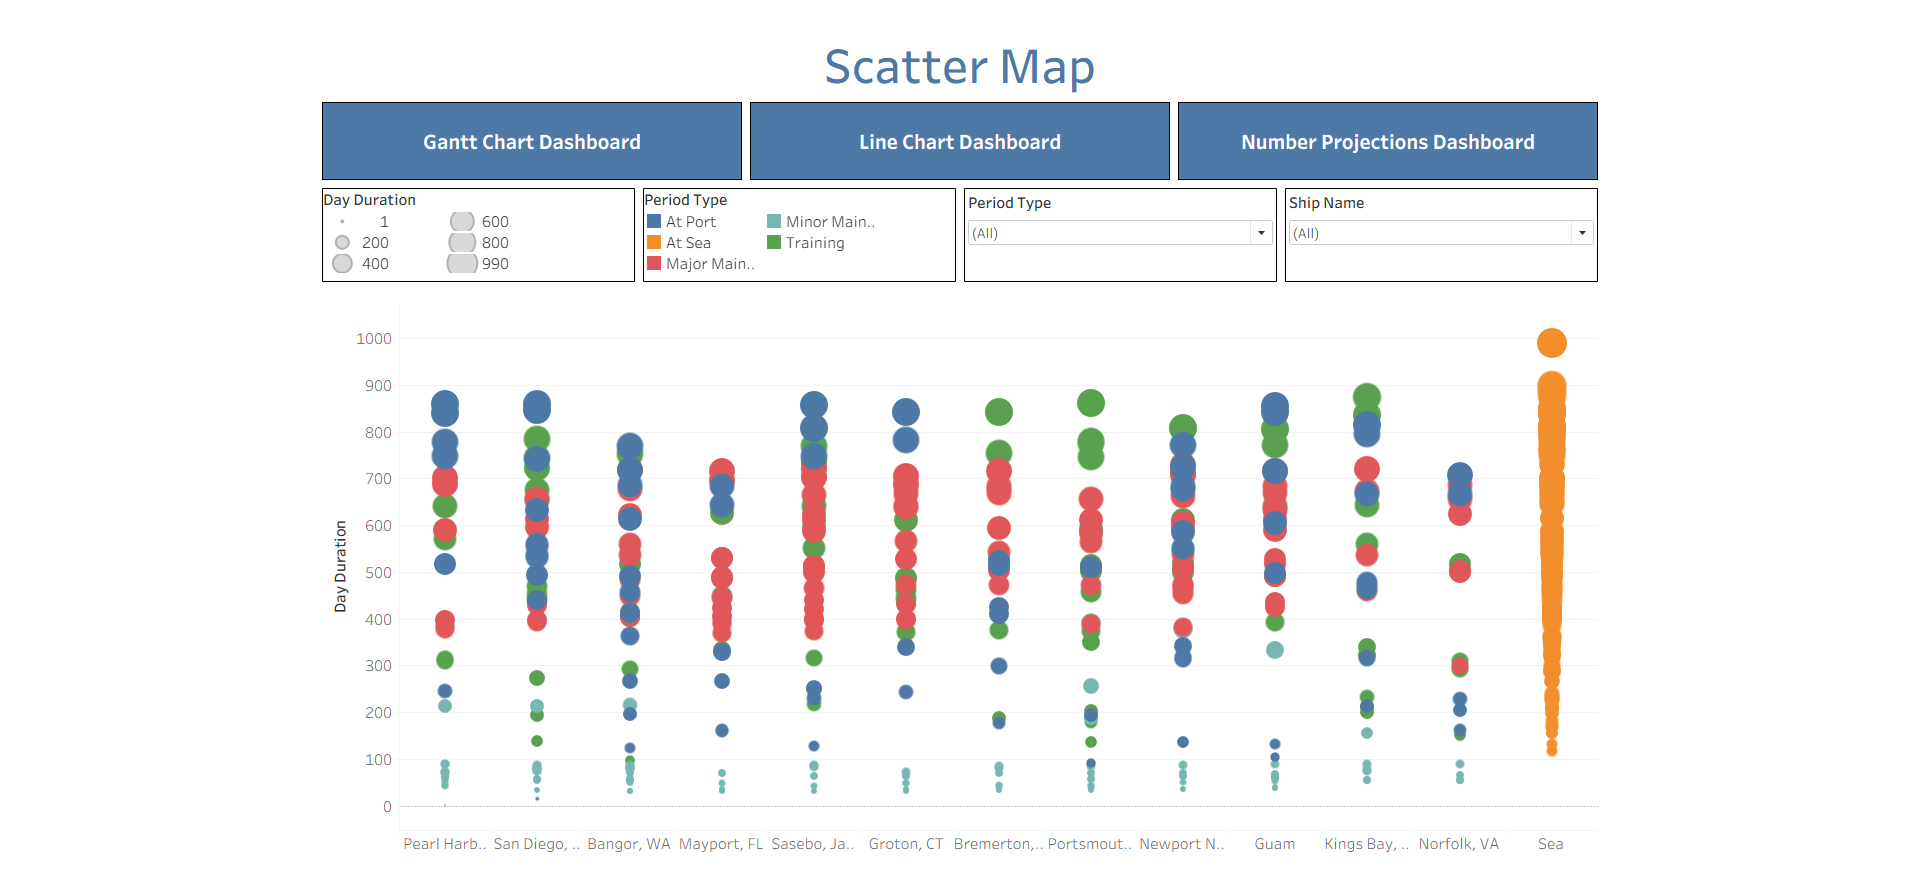

The dashboard page shown, as its layout file describes it:
{"tool":"tableau","page":{"name":"ScatterMap Dasboard","canvas":[1000,1000],"units":"permille","ordinal":3},"visuals":[{"type":"text","box":[6.2,9.4,987.7,78.8]},{"type":"dashboard-object","box":[6.2,88.2,329.2,100]},{"type":"dashboard-object","box":[335.4,88.2,329.2,100]},{"type":"dashboard-object","box":[664.6,88.2,329.2,100]},{"type":"worksheet","title":"Scatter Map","mark":"Circle","rows":["Calculation_3010093411998056452"],"cols":["Location"],"box":[6.2,188.2,987.7,666.3]},{"type":"legend","title":"Scatter Map","param":"[federated.1dbesl90ko1xc2151ipvv121hvmx].[none:Calculation_3010093411268595714:q","box":[6.2,854.1,493.9,136.5]},{"type":"legend","title":"Scatter Map","param":"[federated.1dbesl90ko1xc2151ipvv121hvmx].[none:Period Type:nk]","box":[500,854.1,493.9,136.5]}]}

Visuals, with their boxes on the dashboard's canvas, which has no fixed pixel size, in thousandths of its width and height (x1, y1, x2, y2). These are canvas units, not pixel positions in the 1918x892 screenshot, which may show the page scaled, cropped or inside an application window:
text: Rect(6, 9, 994, 88)
dashboard-object: Rect(6, 88, 335, 188)
dashboard-object: Rect(335, 88, 665, 188)
dashboard-object: Rect(665, 88, 994, 188)
"Scatter Map" worksheet (Circle marks): Rect(6, 188, 994, 854)
"Scatter Map" legend: Rect(6, 854, 500, 991)
"Scatter Map" legend: Rect(500, 854, 994, 991)
